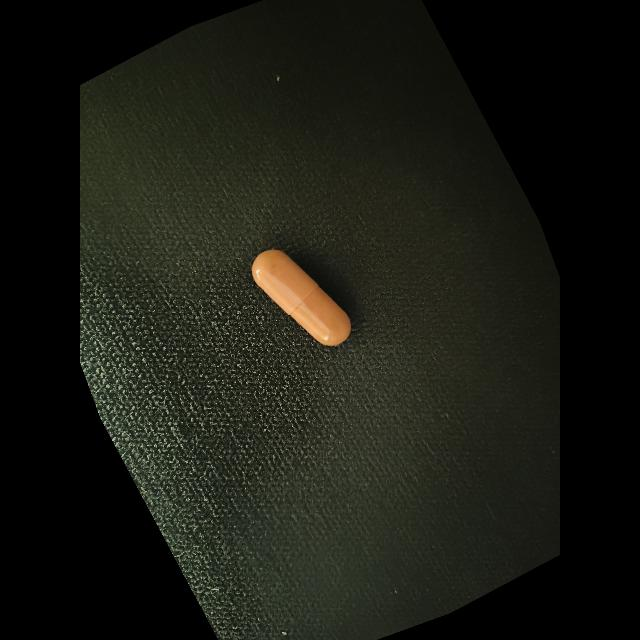Intact Capsule: (252, 249, 351, 346)
